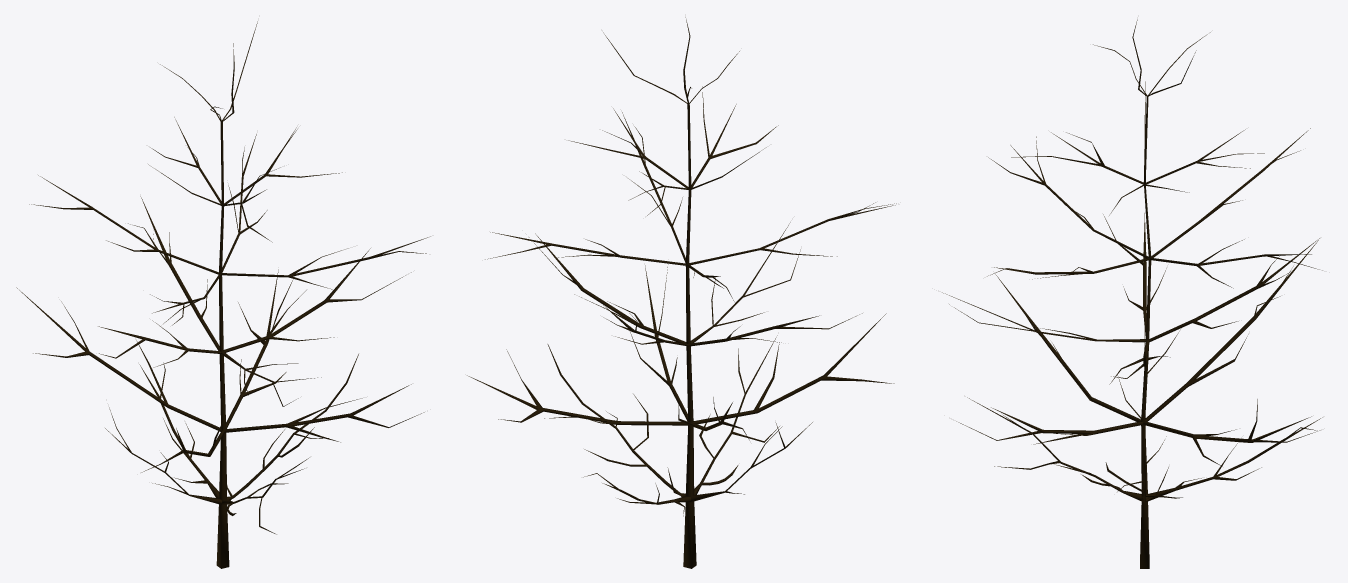
File: bushOneDraco.glb
The picture shows the model from 3 angles, left to right: view 1: azimuth 30°, elevation 25°; view 2: azimuth 150°, elevation 25°; view 3: azimuth 270°, elevation 25°; orthographic projection. The views are drawn at different scales.
Parts seen in each view (by area): view 1: trunk, branch.022, branch.023, branch.017, branch.024, branch.004, branch.001, branch, branch.020, branch.027, branch.018; view 2: trunk, branch.021, branch.024, branch, branch.017, branch.025, branch.006, branch.023, branch.002, branch.018, branch.019; view 3: trunk, branch.022, branch.024, branch.023, branch.020, branch.027, branch.021, branch.025, branch.006, branch.002, branch.019, branch.001 (+2 smaller).
Boxes of the visible parts, <box> form: trunk: <box>216,122,229,568</box>; branch.022: <box>16,287,221,431</box>; branch.023: <box>224,384,424,442</box>; branch.017: <box>222,248,411,352</box>; branch.024: <box>226,269,294,428</box>; branch.004: <box>221,236,430,289</box>; branch.001: <box>29,175,219,274</box>; branch: <box>227,354,358,500</box>; branch.020: <box>140,196,221,352</box>; branch.027: <box>139,362,218,498</box>; branch.018: <box>98,320,220,367</box>; trunk: <box>683,104,696,568</box>; branch.021: <box>693,313,894,424</box>; branch.024: <box>467,349,689,425</box>; branch: <box>547,344,685,496</box>; branch.017: <box>529,233,687,344</box>; branch.025: <box>694,335,779,495</box>; branch.006: <box>689,202,896,265</box>; branch.023: <box>630,264,687,421</box>; branch.002: <box>485,232,686,265</box>; branch.018: <box>689,313,862,346</box>; branch.019: <box>689,222,800,344</box>; trunk: <box>1140,96,1151,568</box>; branch.022: <box>1145,240,1318,421</box>; branch.024: <box>1143,399,1320,466</box>; branch.023: <box>956,407,1143,444</box>; branch.020: <box>1149,238,1319,342</box>; branch.027: <box>1148,417,1322,501</box>; branch.021: <box>995,274,1141,421</box>; branch.025: <box>967,397,1141,501</box>; branch.006: <box>988,136,1148,258</box>; branch.002: <box>1150,239,1322,288</box>; branch.019: <box>942,292,1145,342</box>; branch.001: <box>1151,128,1310,257</box>.
Size of the model in its own units: 0.71 by 1.09 by 0.7139.
